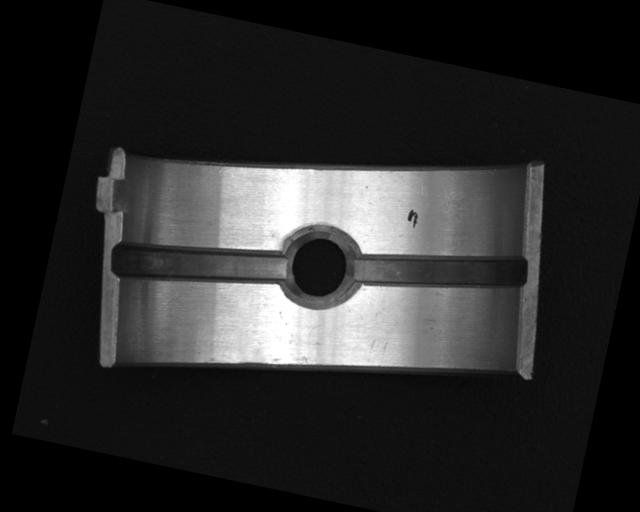blot: (405, 208, 420, 229)
gap: (108, 217, 294, 312), (350, 225, 528, 320)
hole: (279, 224, 364, 313)
